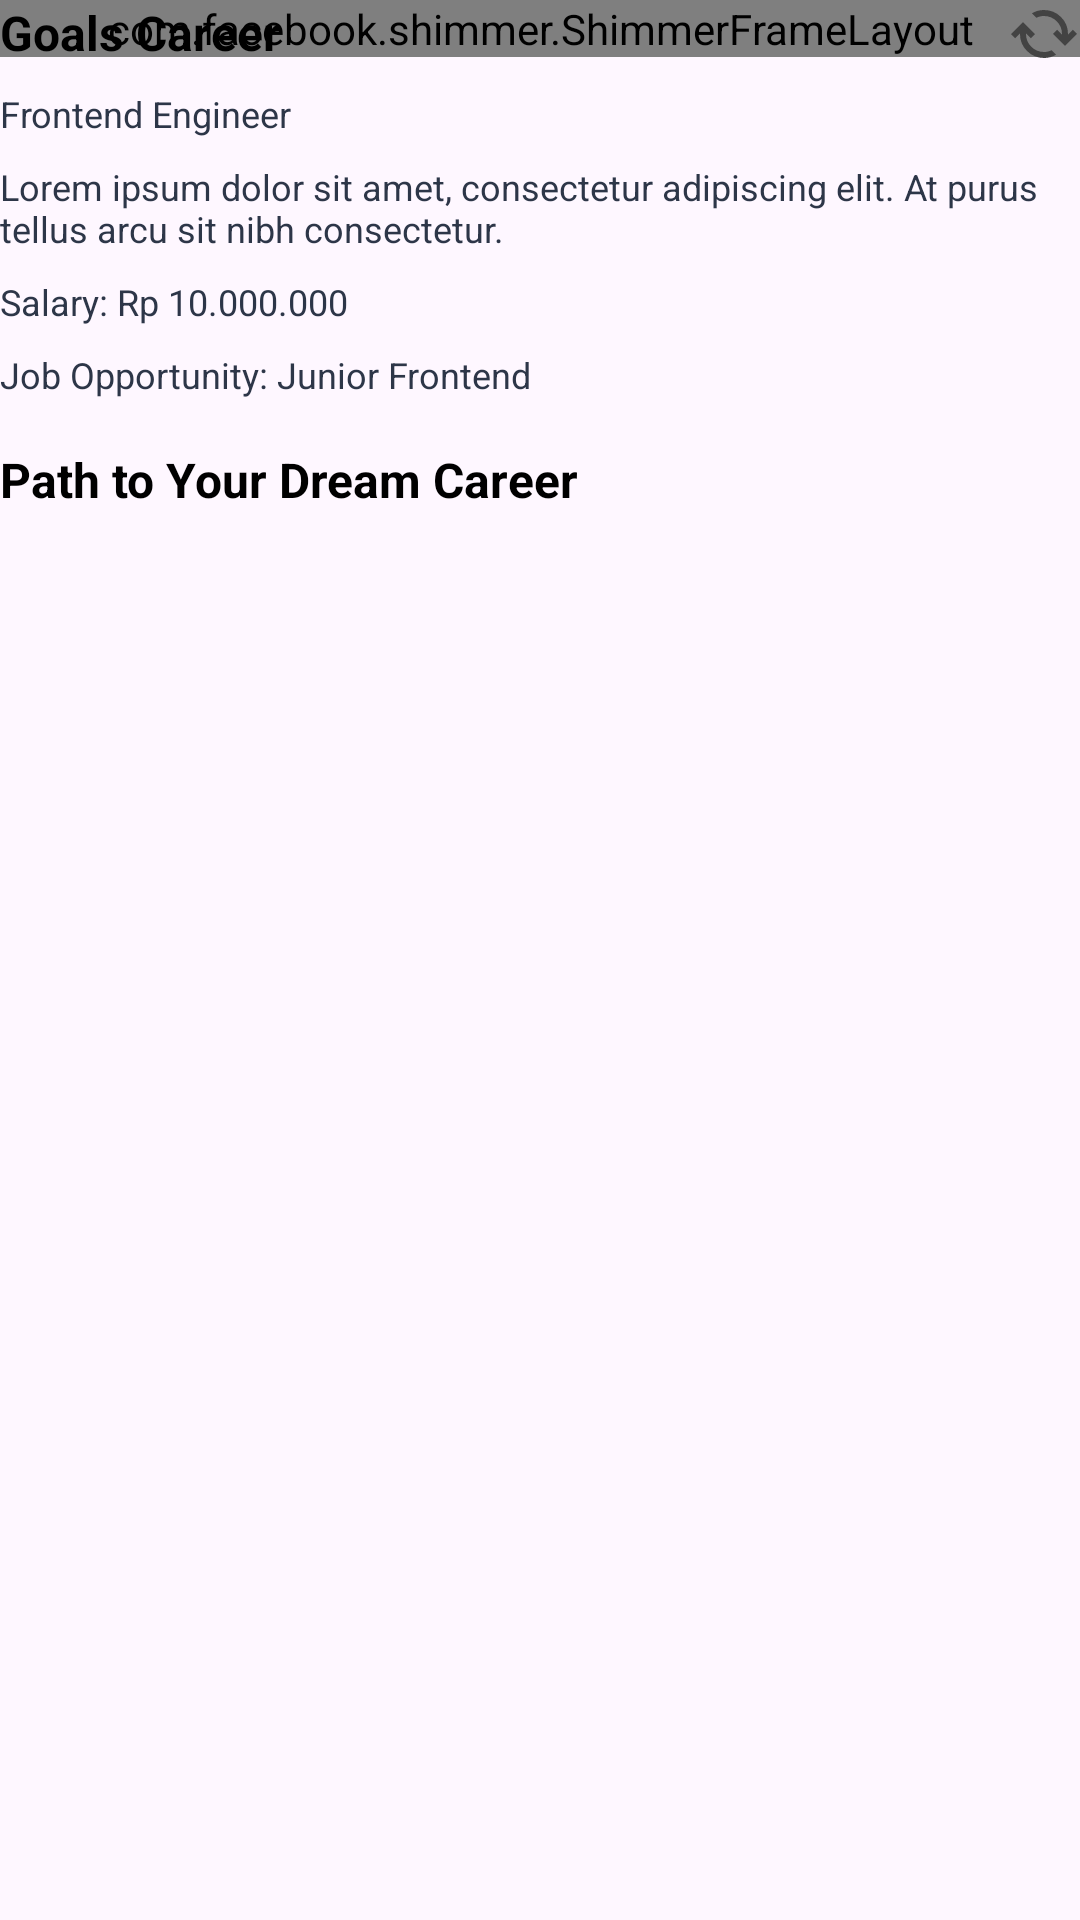

Icon bounding boxes for this 1080*1920 phone screenshot, format [left=x1, top=y1, right=x2, bottom=y2]:
refresh: [left=1008, top=0, right=1080, bottom=58]
